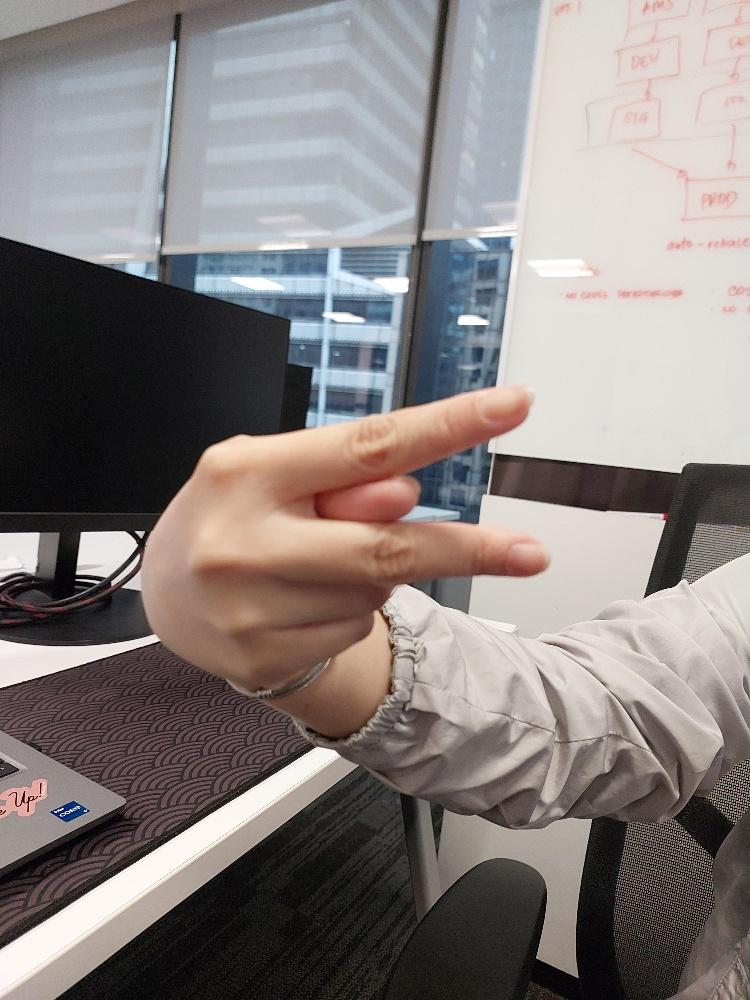k: (142, 384, 548, 684)
